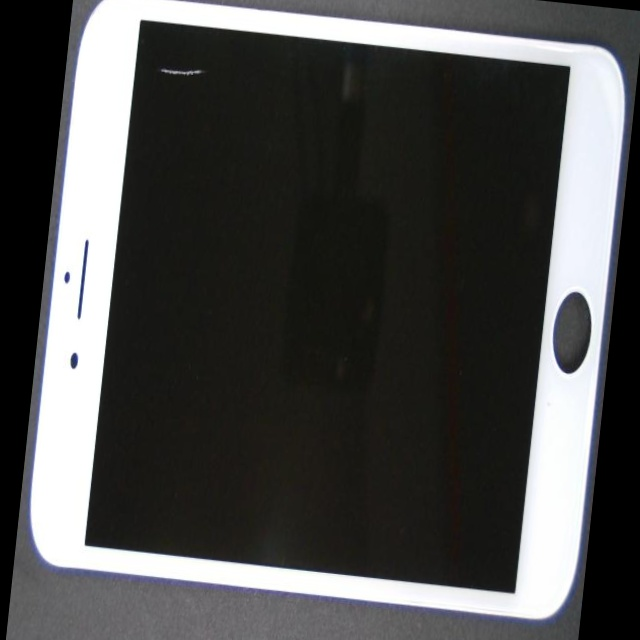scratch: (165, 16, 256, 109)
